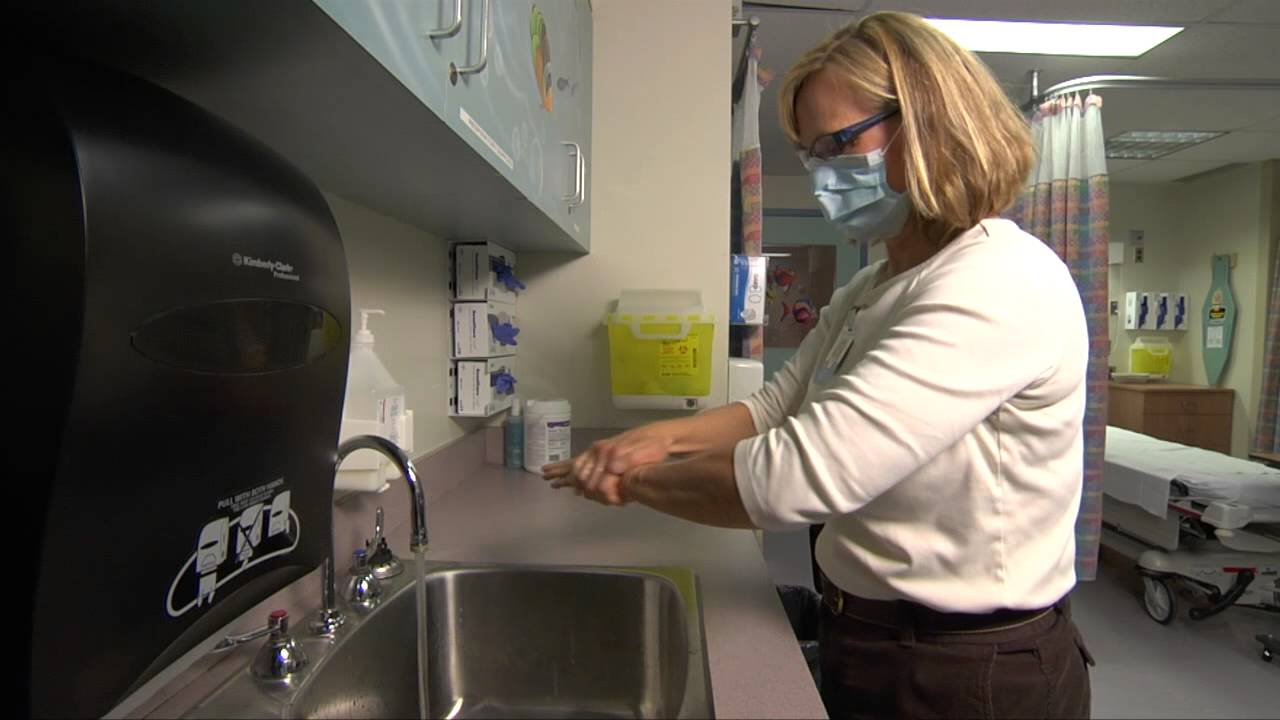mask: (806, 152, 915, 245)
